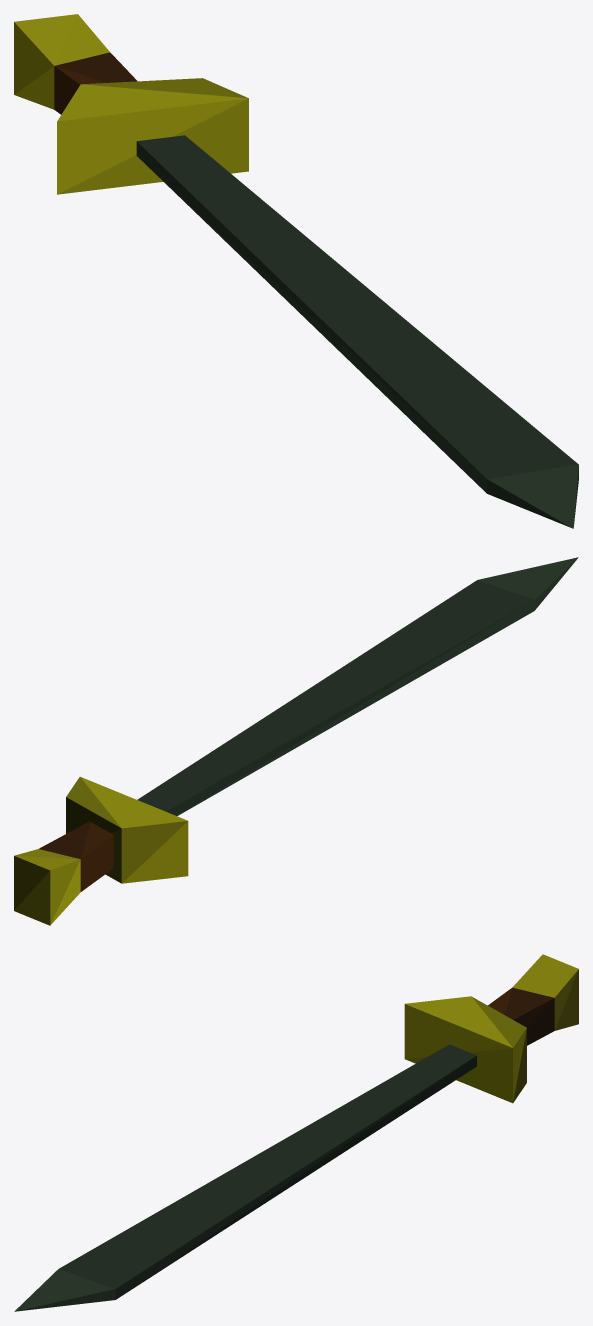
The model's file is adamant-sword.obj.
3 views of the same model, one above another, from view 1: azimuth 30°, elevation 25°; view 2: azimuth 150°, elevation 25°; view 3: azimuth 330°, elevation 25° (orthographic). The views are drawn at different scales.
Visible parts, largest first — view 1: Item Adamant sword 2026-09-24_13-25-53; view 2: Item Adamant sword 2026-09-24_13-25-53; view 3: Item Adamant sword 2026-09-24_13-25-53.
Part boxes in pixels (x1,y1,x2,y2): Item Adamant sword 2026-09-24_13-25-53: (14,14,578,528); Item Adamant sword 2026-09-24_13-25-53: (14,557,578,925); Item Adamant sword 2026-09-24_13-25-53: (14,954,578,1311).
Size of the model in its own units: 13 by 5 by 78.
